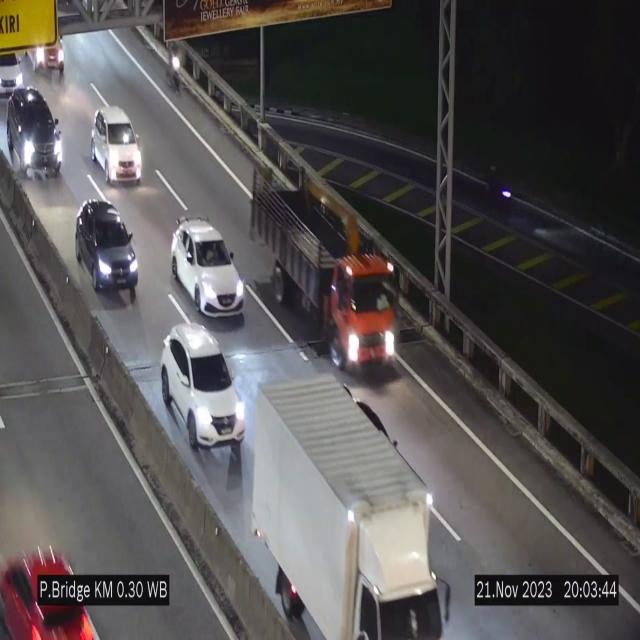Car: (0, 523, 96, 640), (161, 324, 245, 448), (171, 217, 245, 319), (76, 200, 138, 301), (6, 84, 62, 182), (91, 106, 143, 184), (26, 26, 74, 82), (0, 46, 24, 106)
Motorcycle: (484, 143, 516, 215), (161, 31, 185, 93)
Truck: (255, 389, 445, 640), (250, 162, 401, 370)
